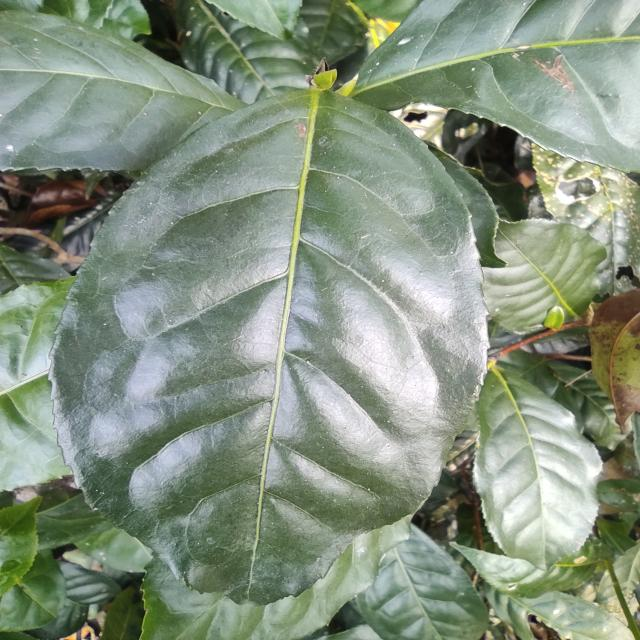Category D(7+ days, Not for Tea): (39, 75, 500, 605)
